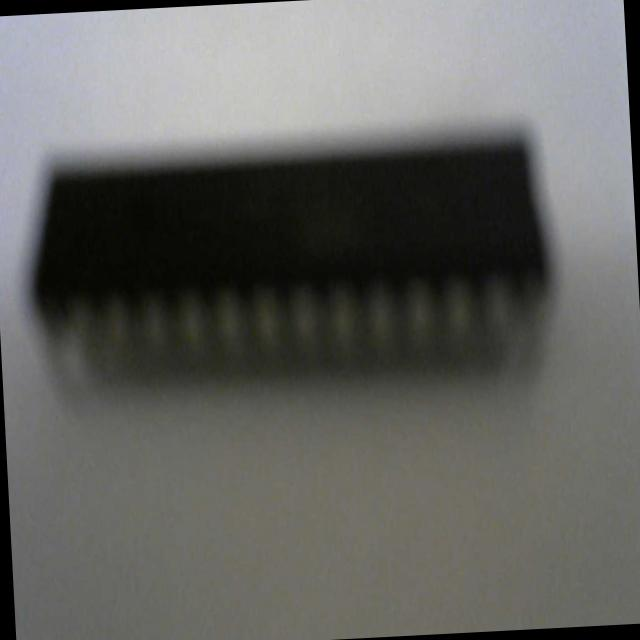atmega: (20, 118, 562, 410)
